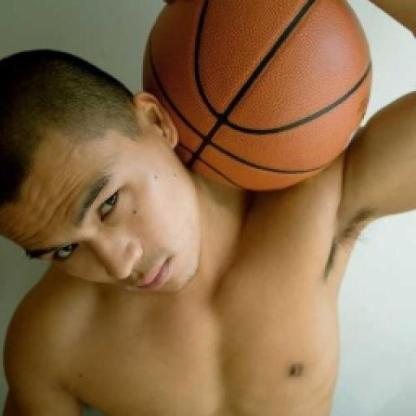basketball: (136, 0, 381, 198)
